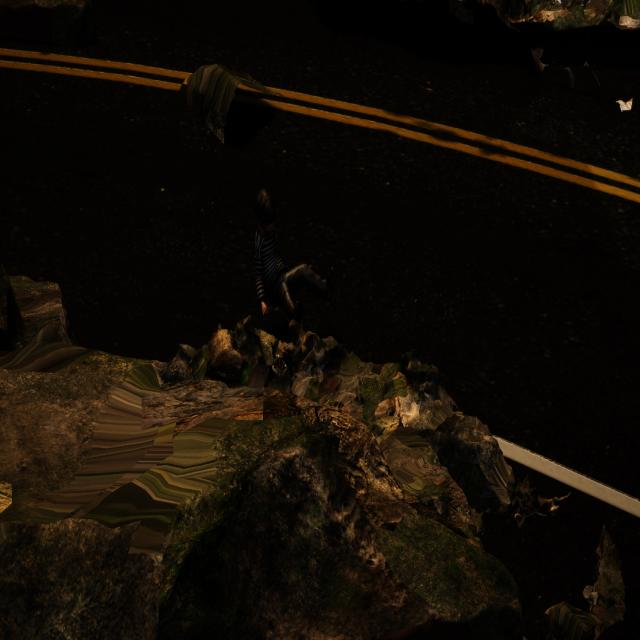Human: (245, 182, 338, 330)
